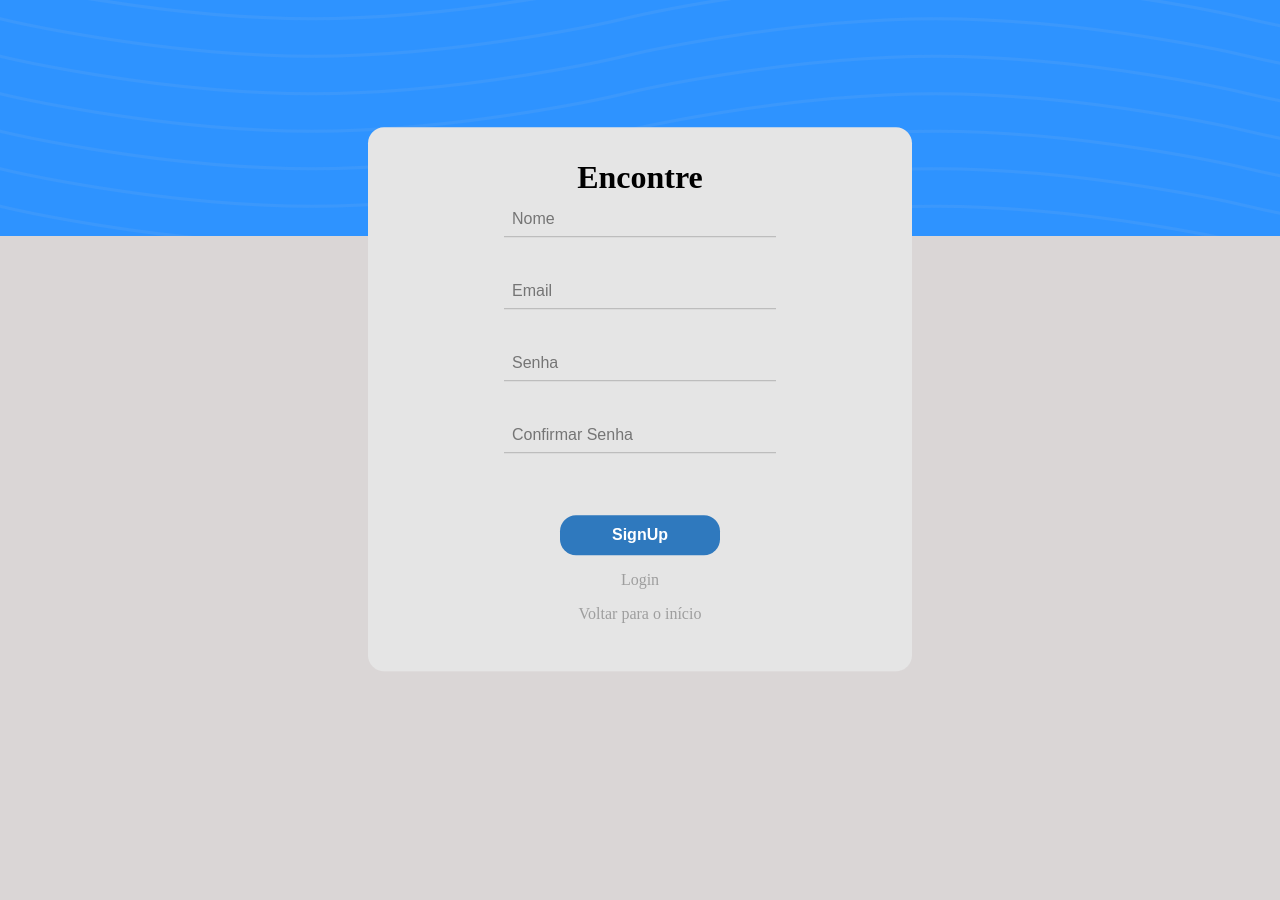
it: SignUp Components › Ensure SignUp components work correctly
Click the button with test id "Button".
click(640, 535)  # box x1=560 y1=515 x2=720 y2=555
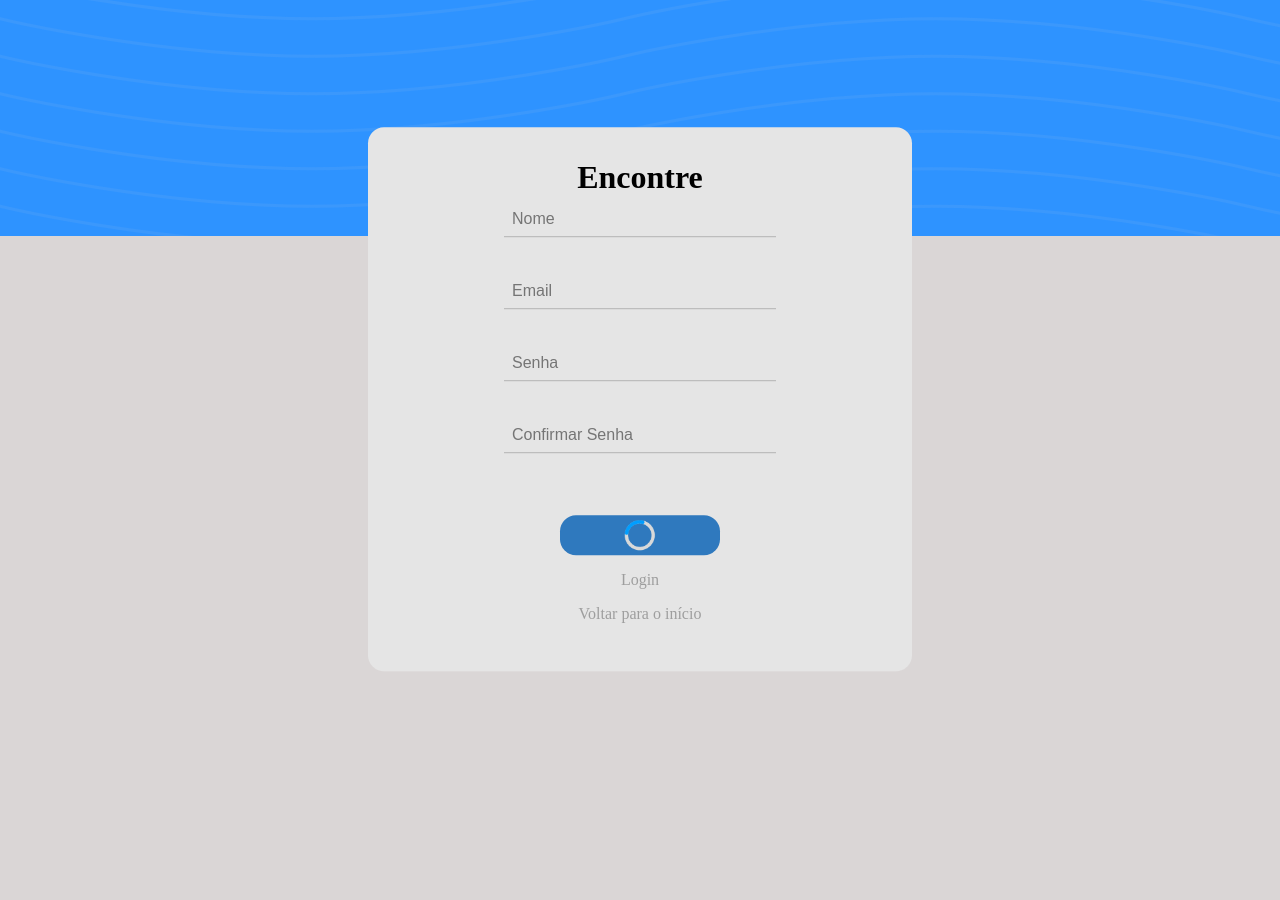
Result: the picture with test id "ImgLoad" is shown at x1=624 y1=519 x2=656 y2=551
